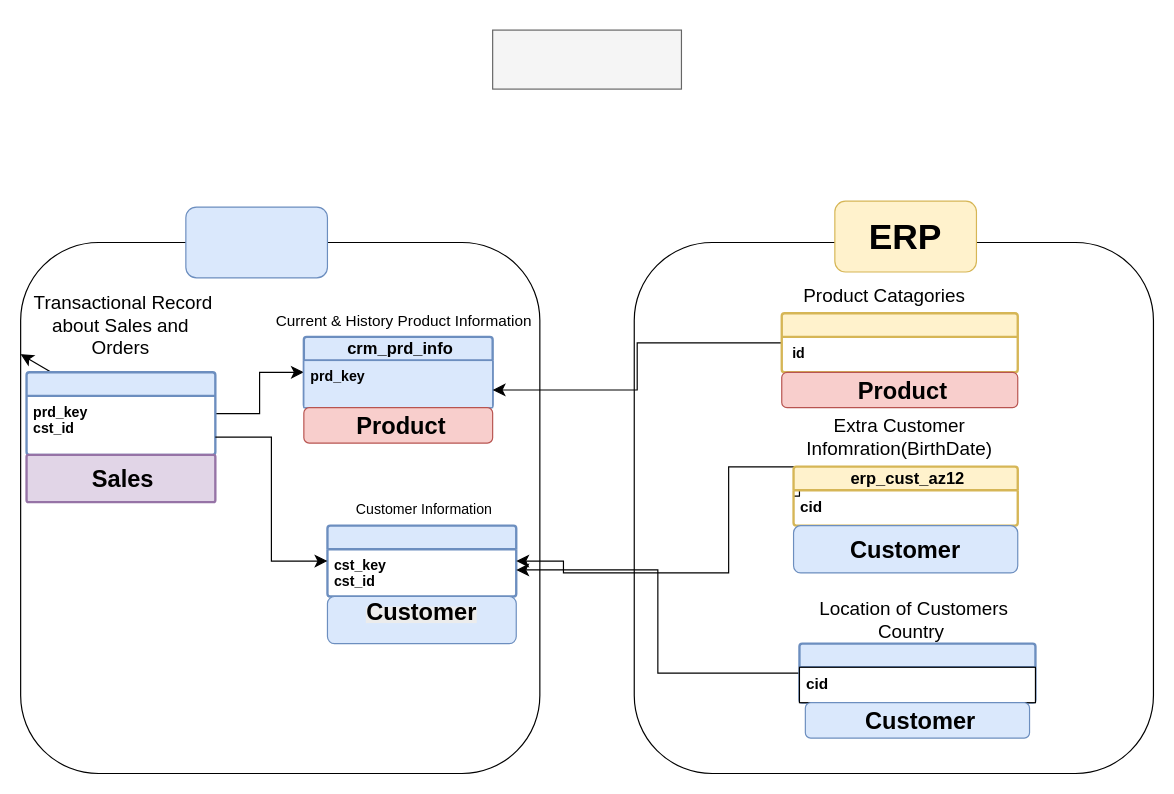
Some shapes in this 1174 by 794 pixel diagram are drawn without their labels. The box of each missing label's shape, as (x1, y1, x2, y2) in pixels:
CRM: (185, 206, 327, 278)
crm_cust_info: (326, 524, 517, 597)
crm_sales_details: (25, 371, 216, 455)
erp_loc_a101: (798, 642, 1036, 703)
erp_px_cat_g1v2: (780, 312, 1018, 373)
Silver Layer: (491, 29, 681, 89)
